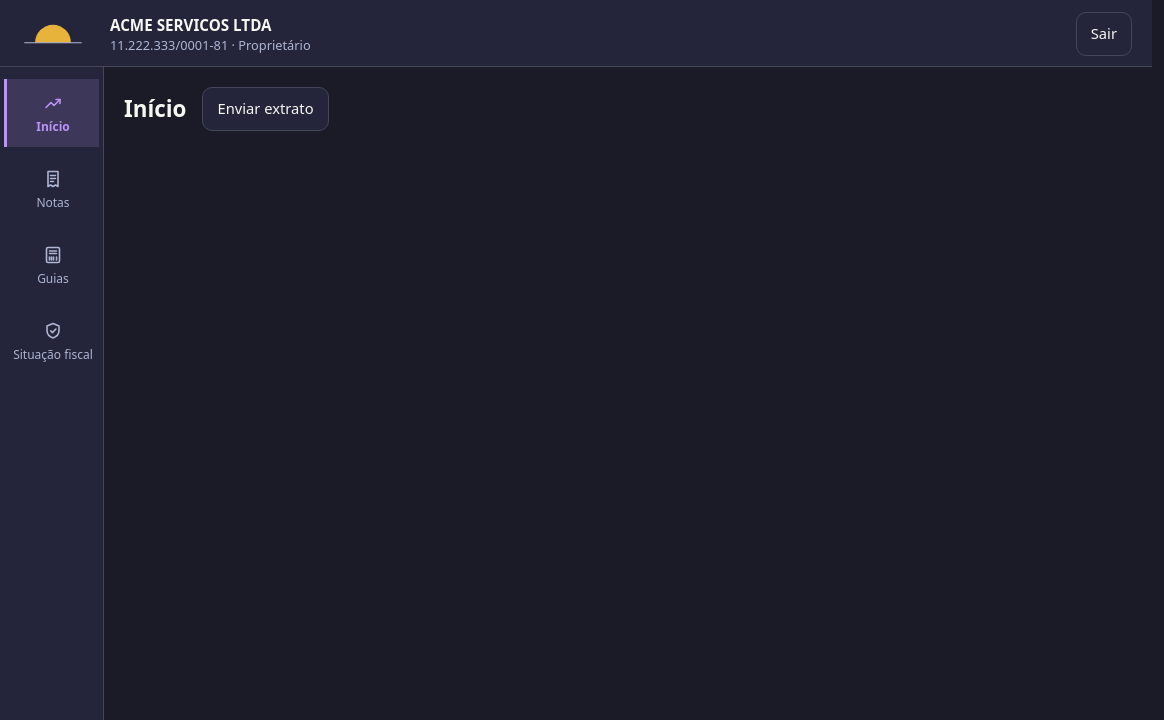
⚠⚠ A RECUSA 503 APARECE, COM O MOTIVO › recusa DESCONHECIDA não ganha procedimento inventado
The width and height of the screenshot is (1164, 720).
Click the link "Notas" at coordinates (53, 190), box [36,168,70,210]
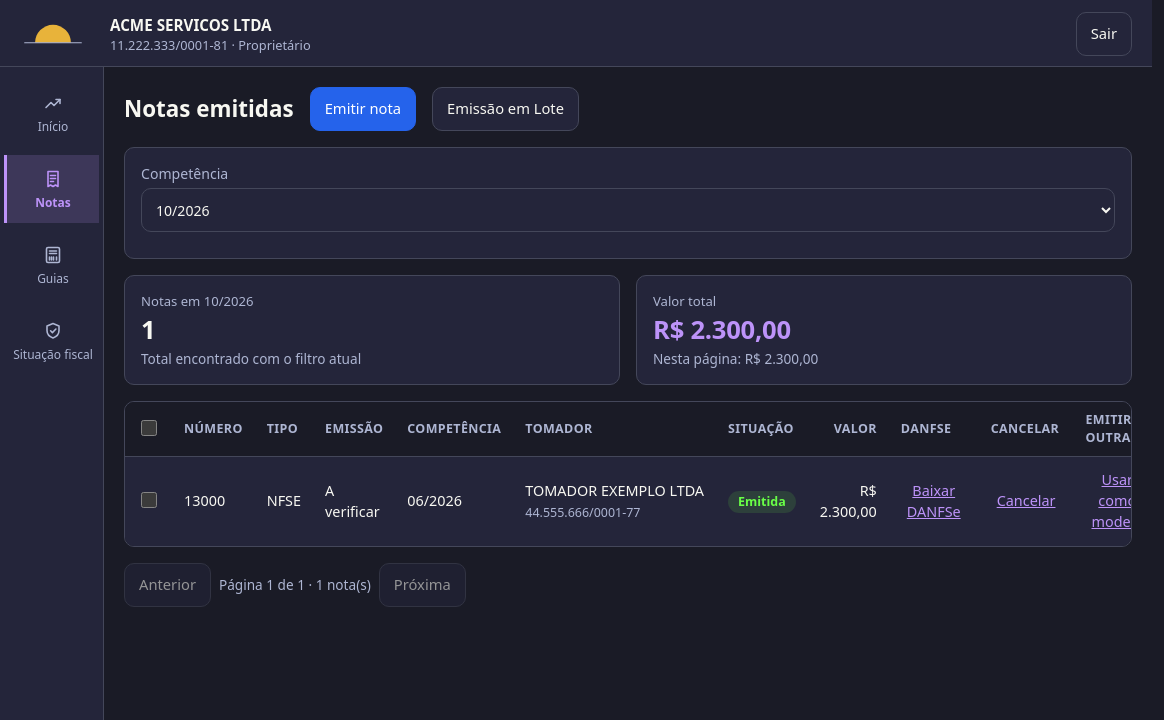
Expected: the heading "Notas emitidas" is shown, [124,94,294,124]
Click the button "Baixar DANFSe" at coordinates (934, 502), box [901,477,967,527]
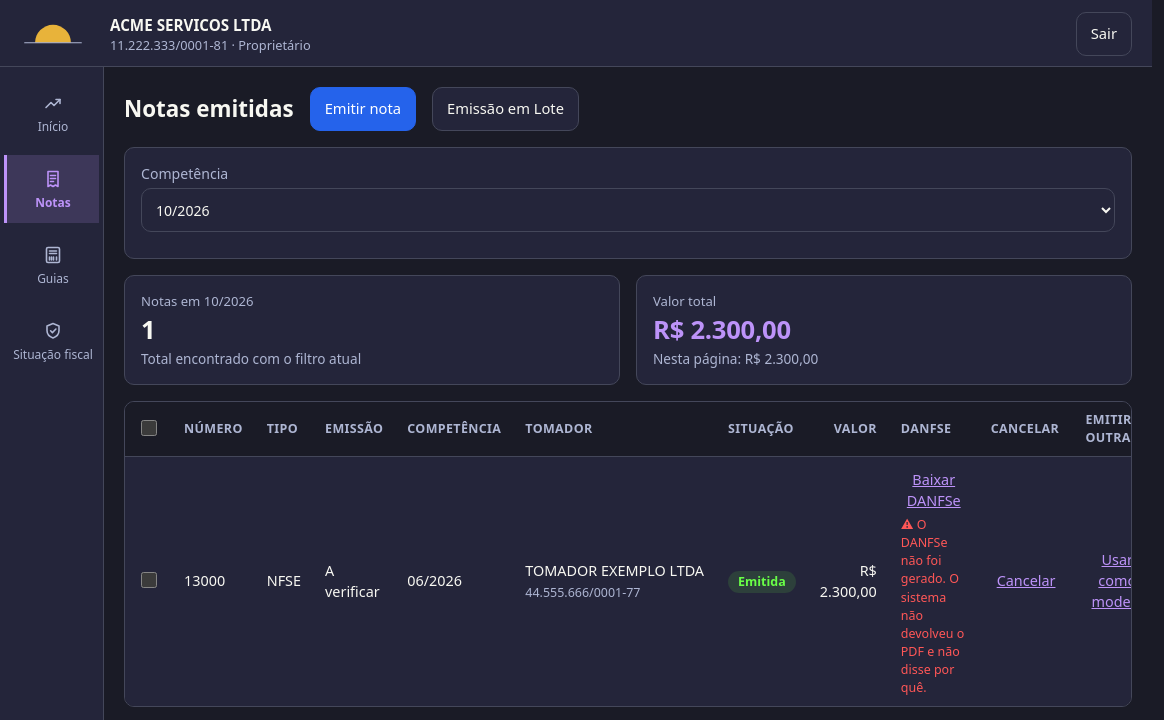
Expected: the text "não devolveu o PDF e não disse por quê" is shown, [901,570,964,696]
